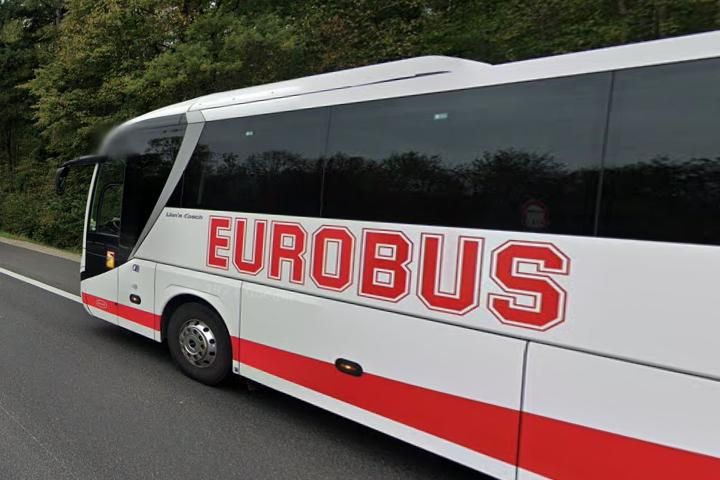traffic_sign: (519, 198, 549, 227)
vehicle: (42, 27, 720, 480)
